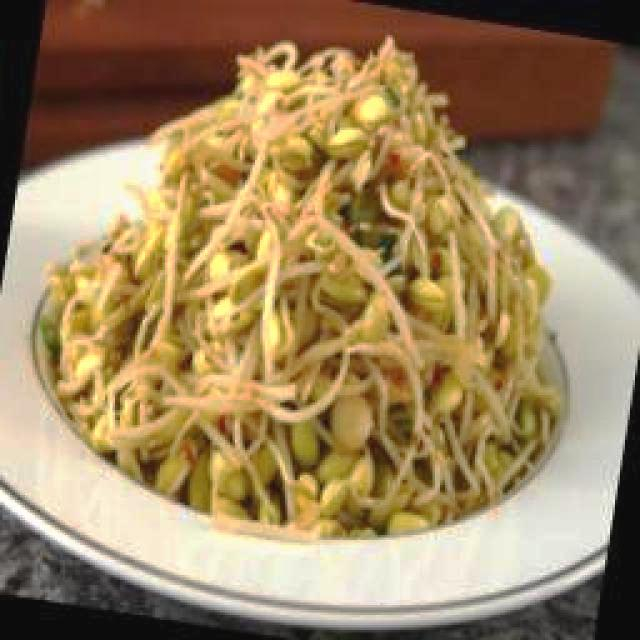mung_bean_sprouts: (47, 36, 555, 540)
